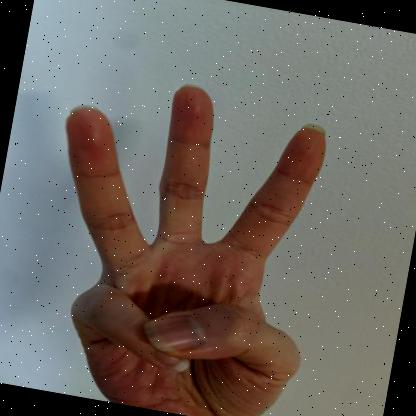W: (64, 84, 325, 416)
